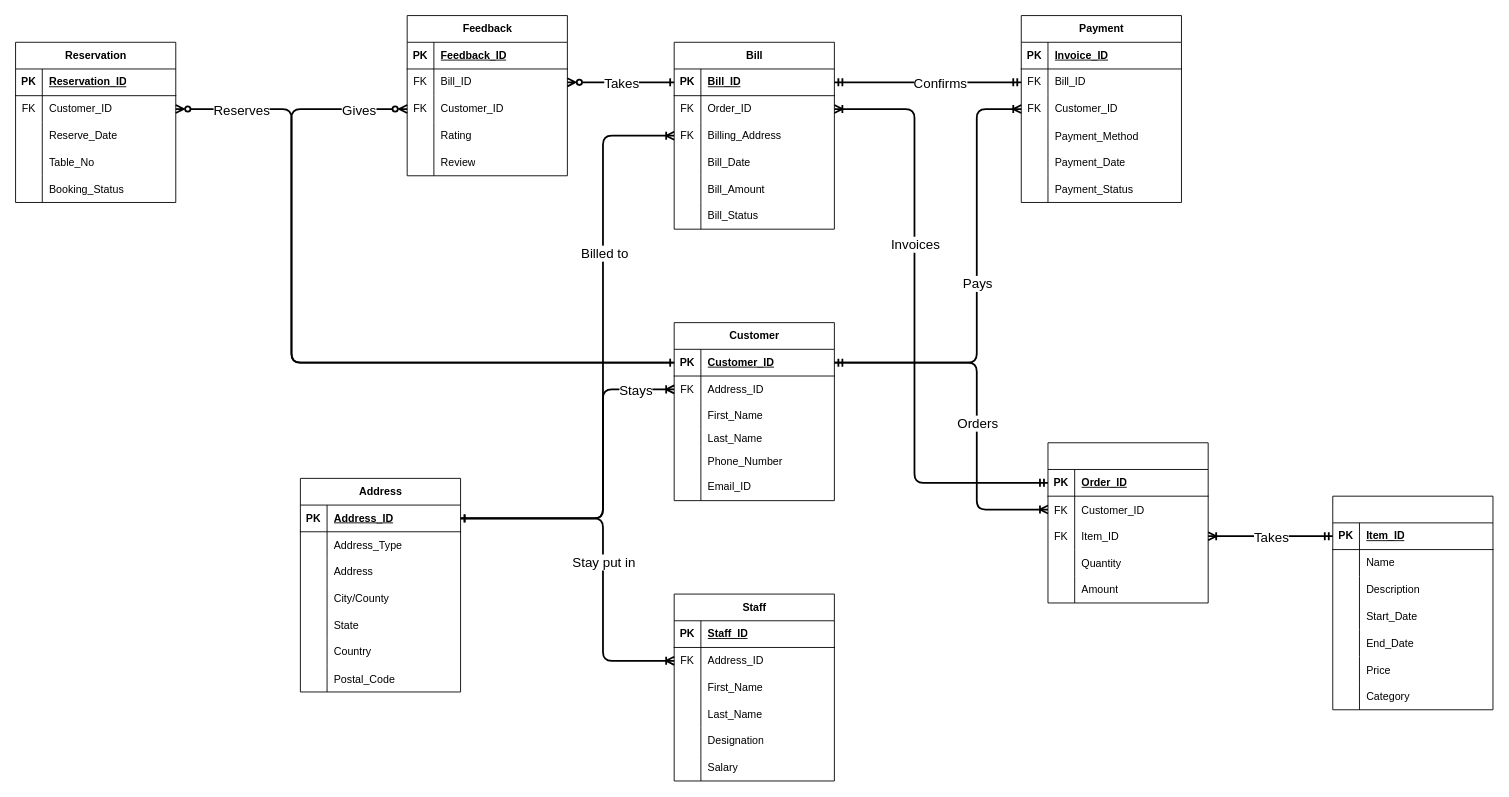
Image size: 1509x797. Some labels were removed from this diagram. Here are the shapes that lost their labels. From the top down, the box of each, then its label:
(1047, 442, 1208, 603): Order_Item
(1332, 495, 1493, 710): Menu_Item
